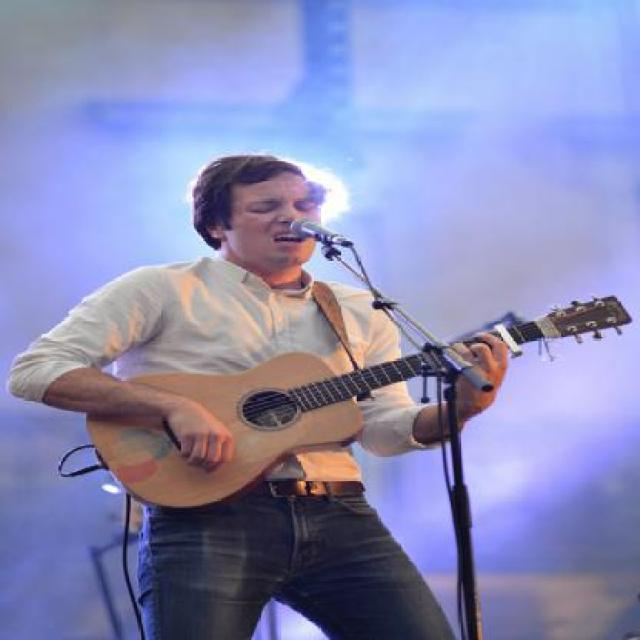Person: (5, 154, 508, 638)
